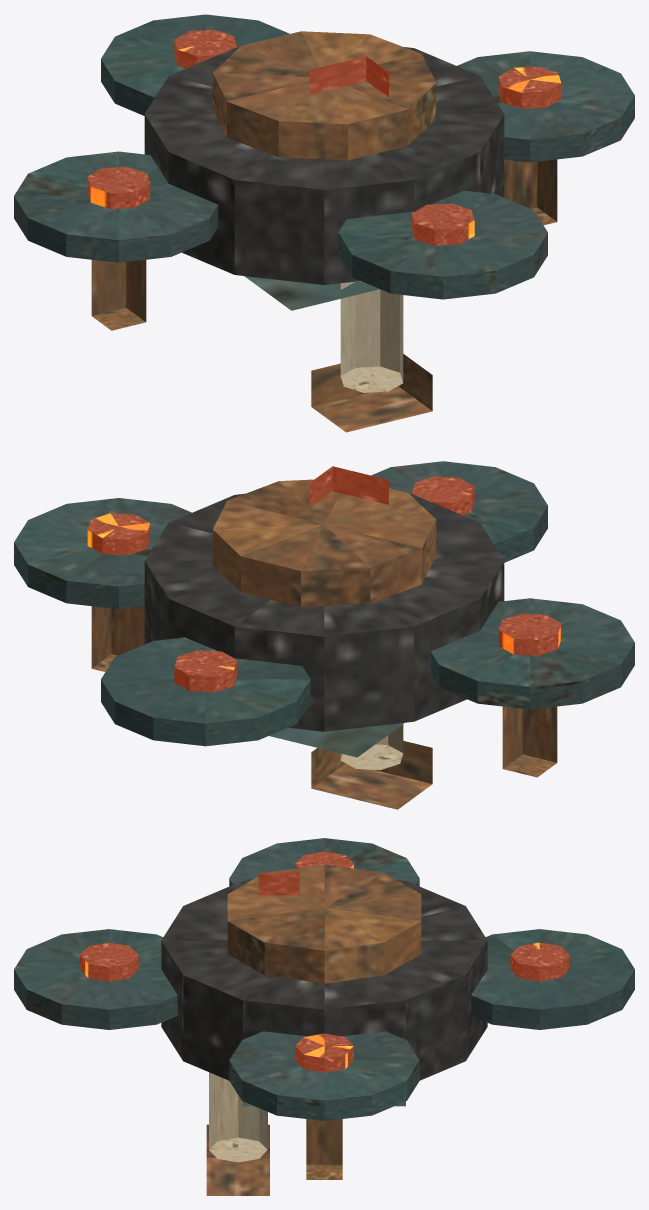
File: mender-drone.gltf
3 renders of one model, top to bottom at view 1: azimuth 30°, elevation 25°; view 2: azimuth 150°, elevation 25°; view 3: azimuth 270°, elevation 25°, orthographic. The views are drawn at different scales.
Parts seen in each view (by area): view 1: Mender Drone; view 2: Mender Drone; view 3: Mender Drone.
Part boxes in pixels (x1,y1,x2,y2): Mender Drone: [14, 14, 634, 432]; Mender Drone: [14, 461, 634, 809]; Mender Drone: [14, 838, 634, 1195].
Bounding box in the file's own units: 2.74 × 1.42 × 2.74.
Materials: 5 (5 with a texture image).
